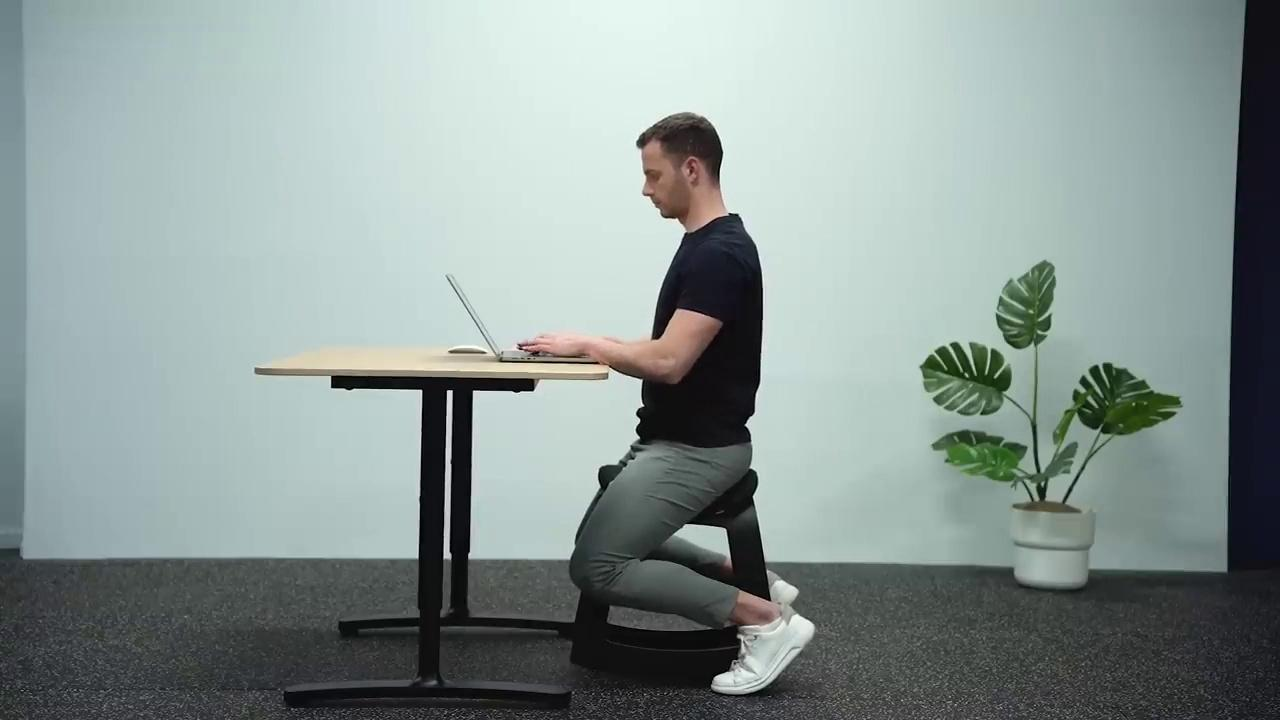GoodPosture: (529, 112, 815, 694)
